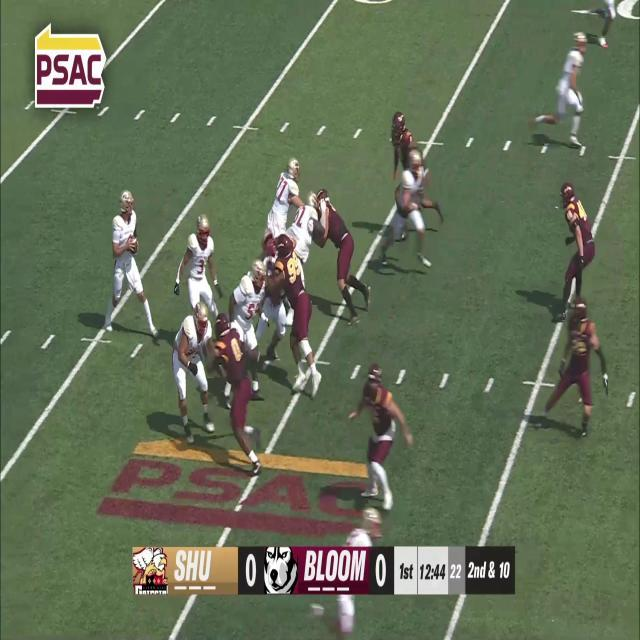football: (128, 233, 138, 256)
